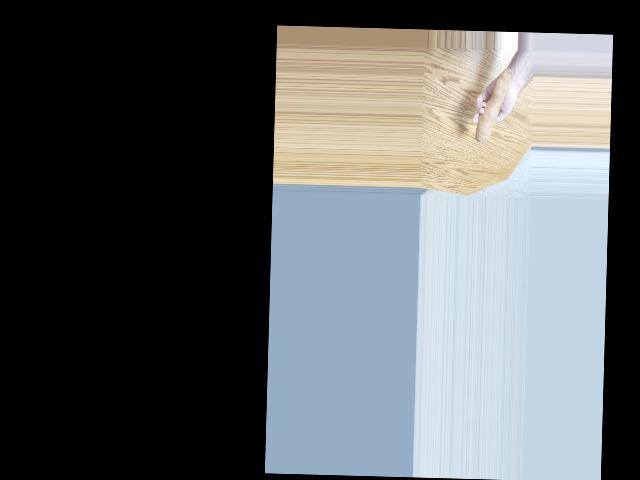sweet_potato: (473, 66, 514, 144)
